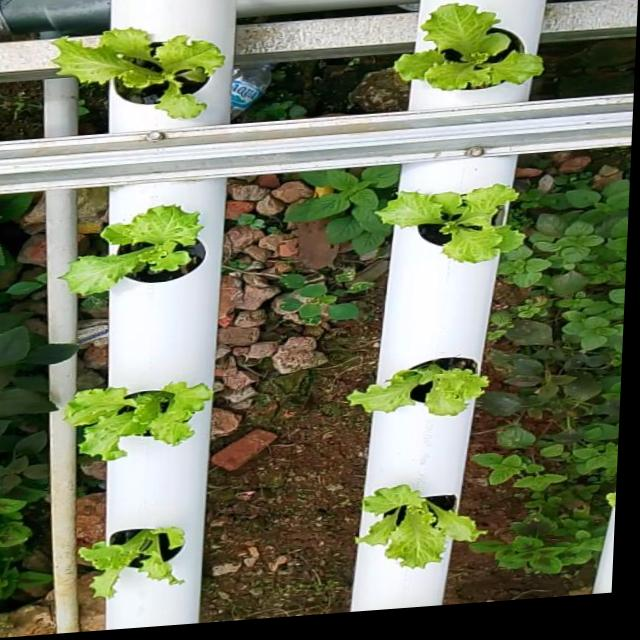Baby: (49, 31, 222, 123), (394, 2, 543, 108), (63, 201, 210, 292), (373, 184, 525, 264), (67, 379, 216, 458), (359, 482, 489, 565), (350, 354, 493, 413), (82, 523, 187, 593)
